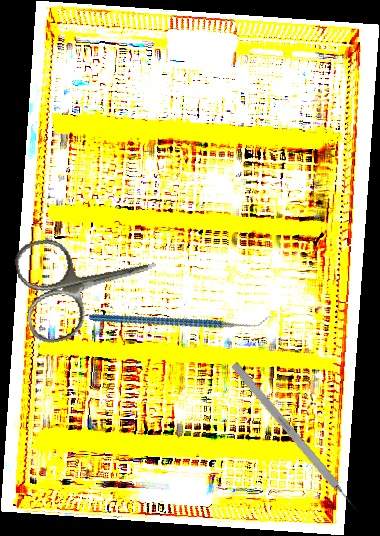Chopper: (88, 253, 272, 383)
Hook Surgical: (230, 361, 364, 518)
Iris Scissors: (11, 215, 168, 348)
